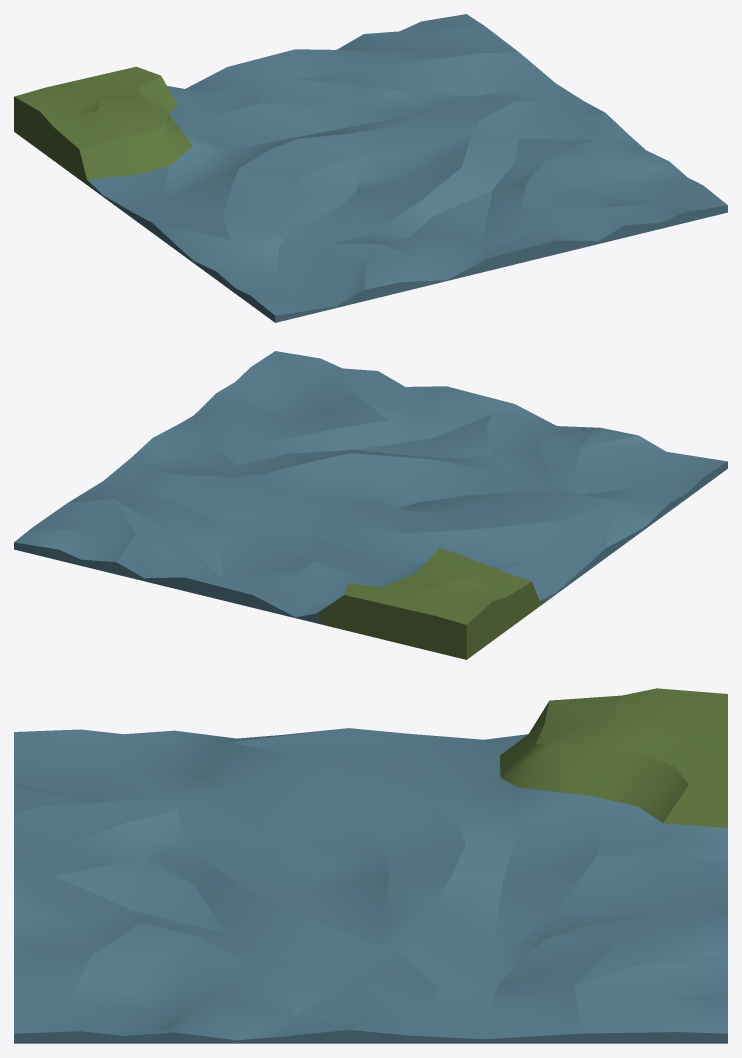
File: Water_Corner_External_LU.glb
3 views of the same model, one above another, from view 1: azimuth 30°, elevation 25°; view 2: azimuth 150°, elevation 25°; view 3: azimuth 270°, elevation 25° (orthographic). The views are drawn at different scales.
Parts seen in each view (by area): view 1: Water_Corner_External_LU; view 2: Water_Corner_External_LU; view 3: Water_Corner_External_LU.
Boxes of the visible parts, x1,y1,x2,y2 form: Water_Corner_External_LU: (14,14,727,322); Water_Corner_External_LU: (14,351,727,659); Water_Corner_External_LU: (14,688,727,1043).
Bounding box in the file's own units: 1.47 × 0.1341 × 1.47.
